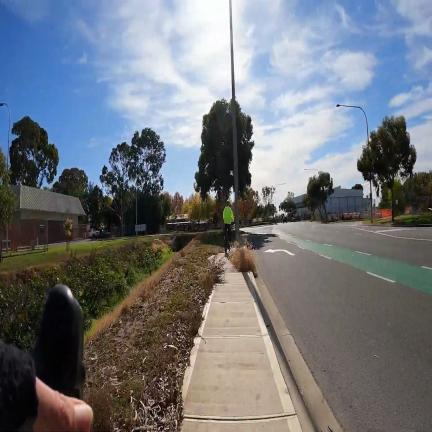Green_Bike_Lane: (292, 237, 432, 295)
